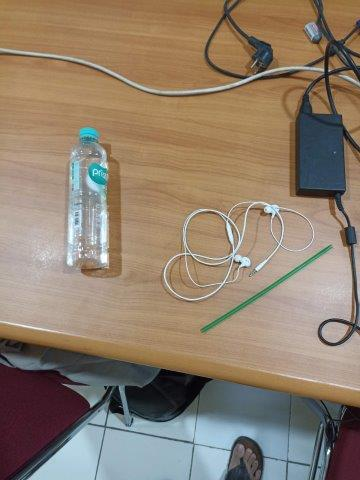botolplastik: (66, 127, 108, 270)
